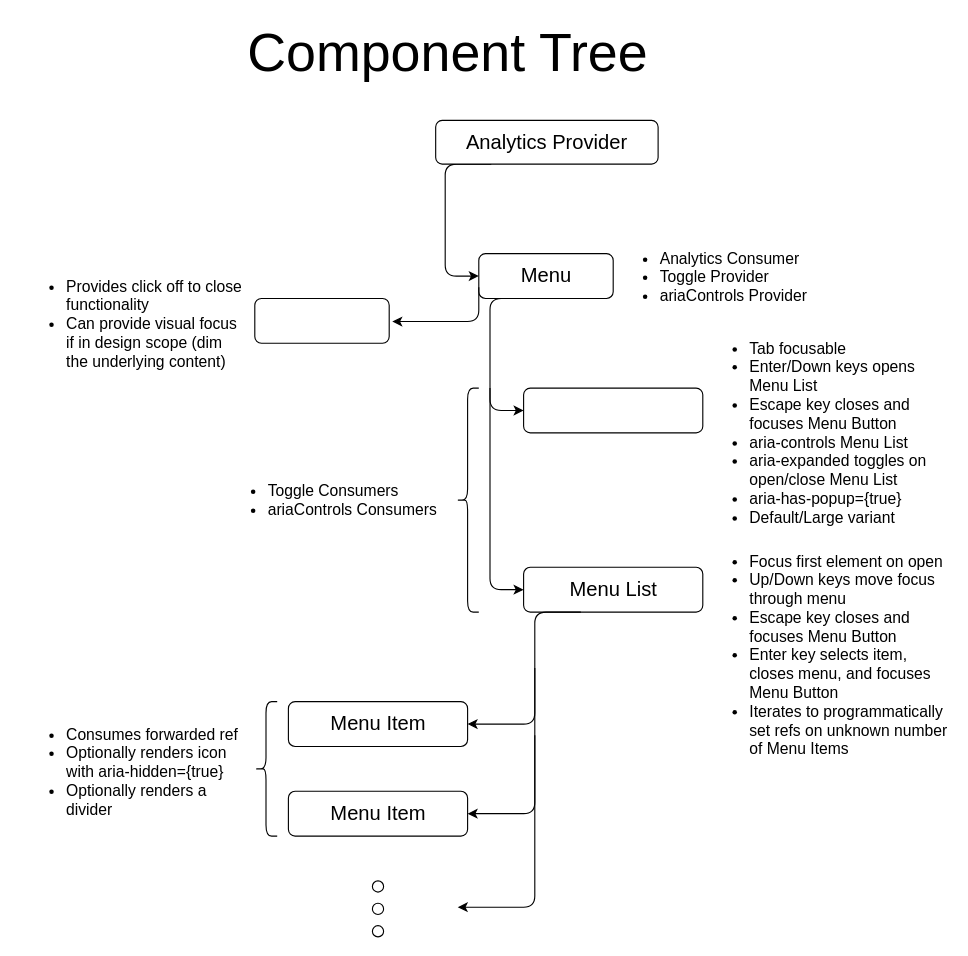
Some shapes in this 968 by 956 pixel diagram are drawn without their labels. The centre of each missing label's shape, as x and y in pixels:
"Menu Button" belongs at point (612, 410).
"Portal" belongs at point (321, 320).
